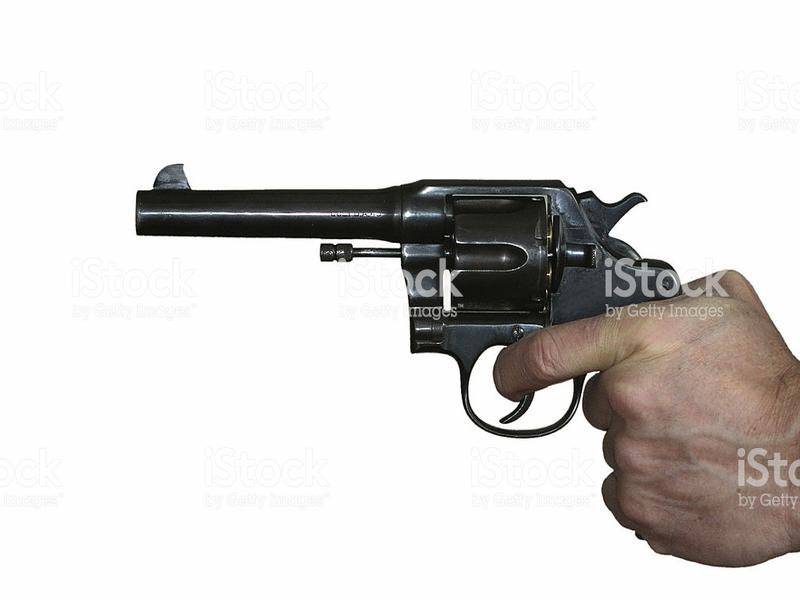Revolver: (117, 143, 686, 436)
